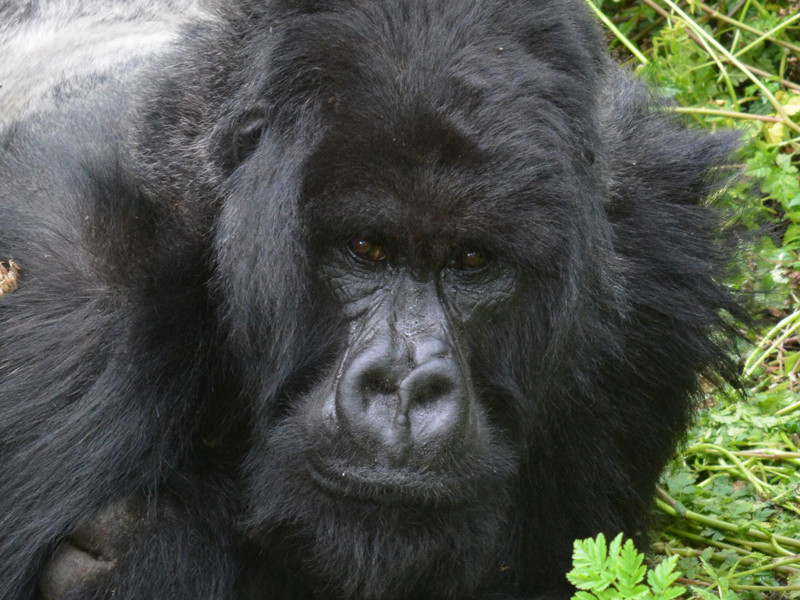Goriila: (8, 7, 796, 600)
